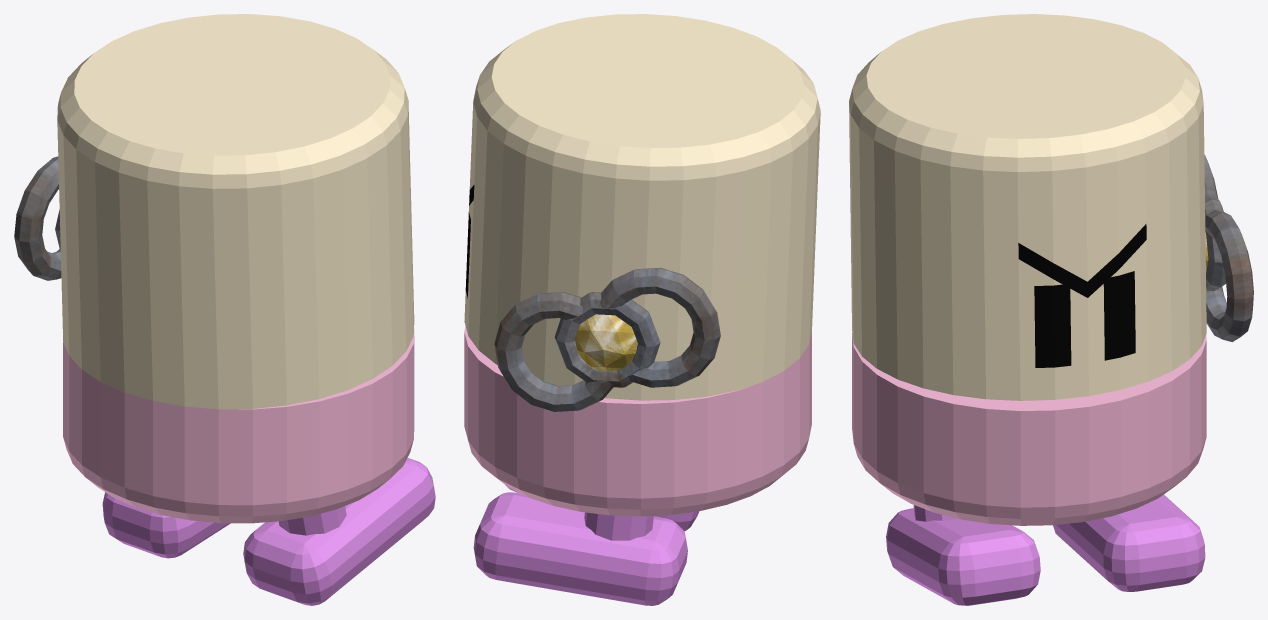
The model's file is Toasters051.obj.
3 views of the same model, side by side, from view 1: azimuth 30°, elevation 25°; view 2: azimuth 150°, elevation 25°; view 3: azimuth 270°, elevation 25° (orthographic). The views are drawn at different scales.
Parts seen in each view (by area): view 1: Head, Jaw, RightLeg, LeftLeg, WindupKey; view 2: Head, Jaw, WindupKey, LeftLeg; view 3: Head, Jaw, RightLeg, LeftLeg, WindupKey.
Boxes of the visible parts, <box> form: Head: <box>57,14,414,409</box>; Jaw: <box>63,329,414,523</box>; RightLeg: <box>243,457,435,605</box>; LeftLeg: <box>102,492,230,558</box>; WindupKey: <box>14,156,61,280</box>; Head: <box>464,14,820,400</box>; Jaw: <box>464,326,811,516</box>; WindupKey: <box>494,267,720,411</box>; LeftLeg: <box>473,492,687,605</box>; Head: <box>849,14,1206,400</box>; Jaw: <box>852,332,1206,525</box>; RightLeg: <box>886,505,1040,605</box>; LeftLeg: <box>1053,494,1205,591</box>; WindupKey: <box>1204,154,1253,342</box>.
Size of the model in its own units: 105 by 153 by 114.
Materials: 6 (2 with a texture image).
